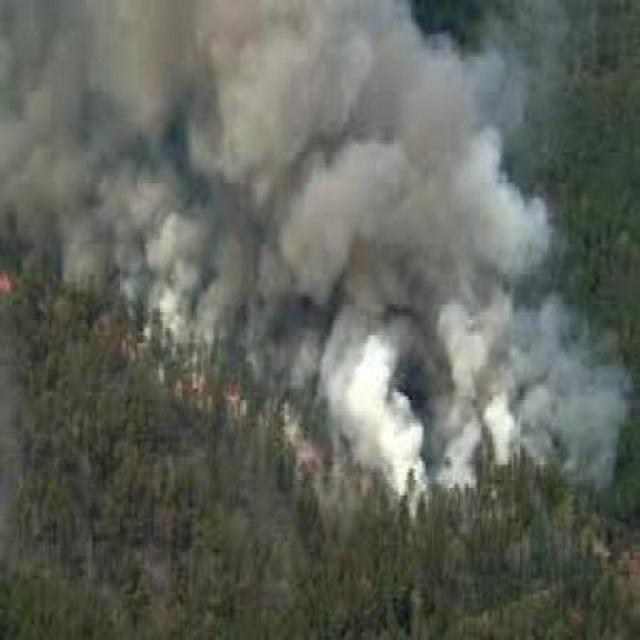Smoke: (174, 89, 596, 524)
